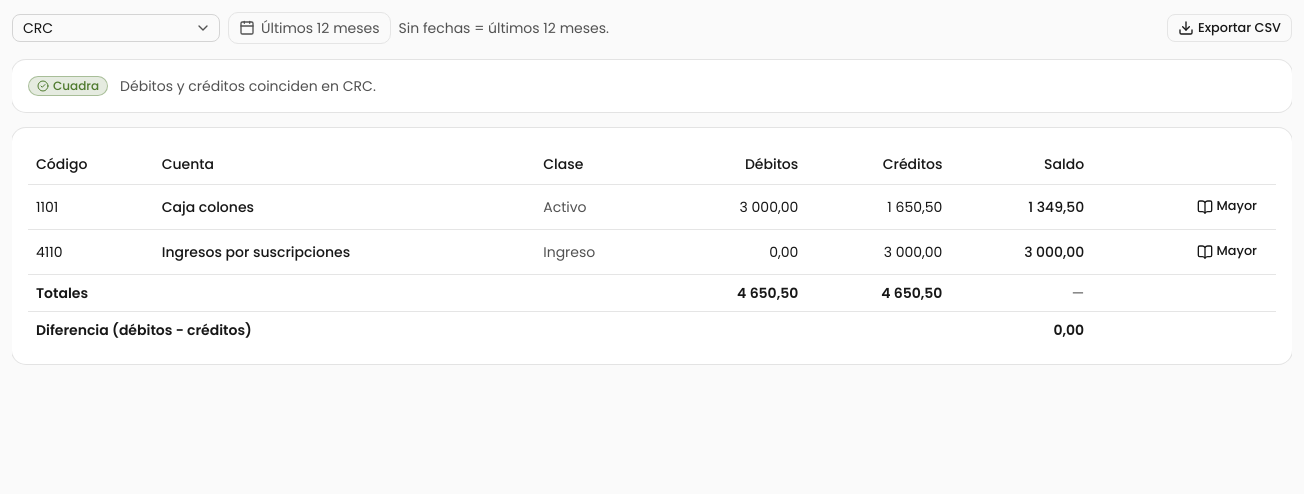
Test: FinanceTrialBalance — de la comprobación al mayor › consolidando no ofrece el salto, y lo explica
Click the dropdown named "Moneda": (116, 28) [12,14,220,42]
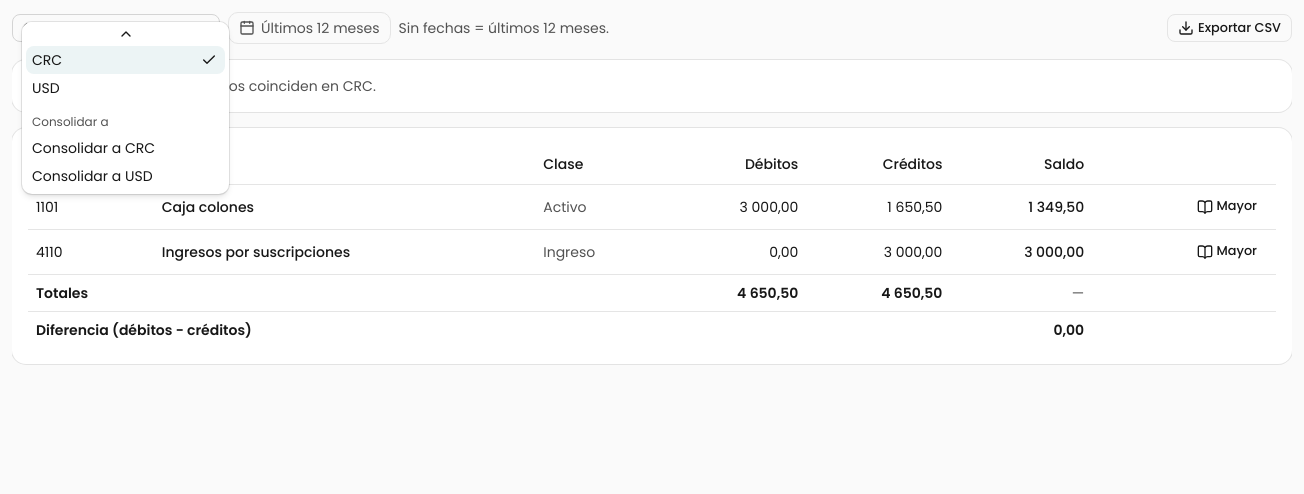
Click the option "Consolidar a USD": (92, 176) [32,166,153,186]
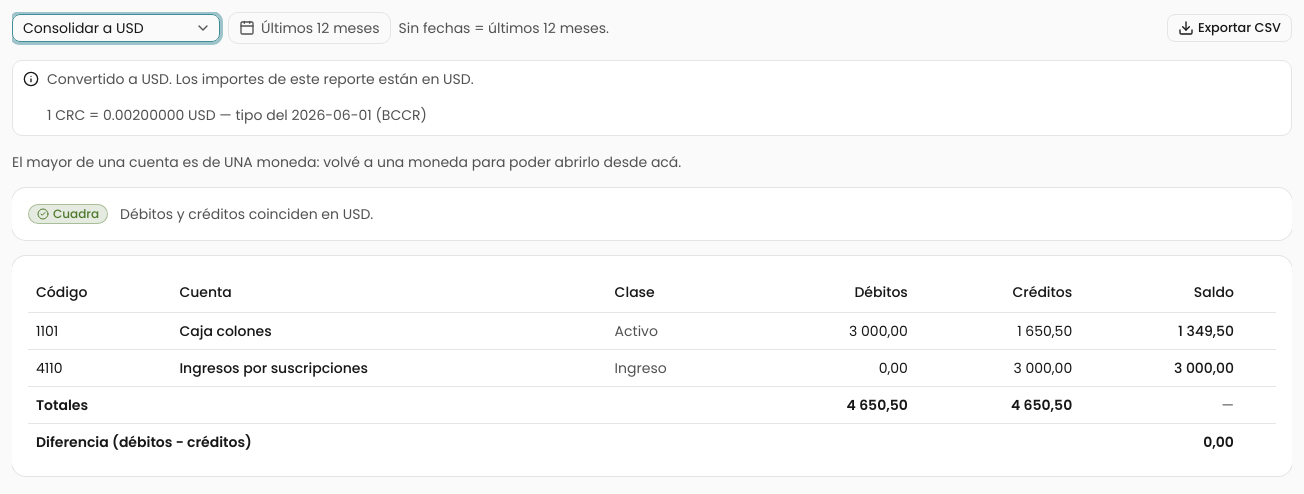
Expected: the text "volvé a una moneda para poder abrirlo" is shown, [12,152,681,172]
